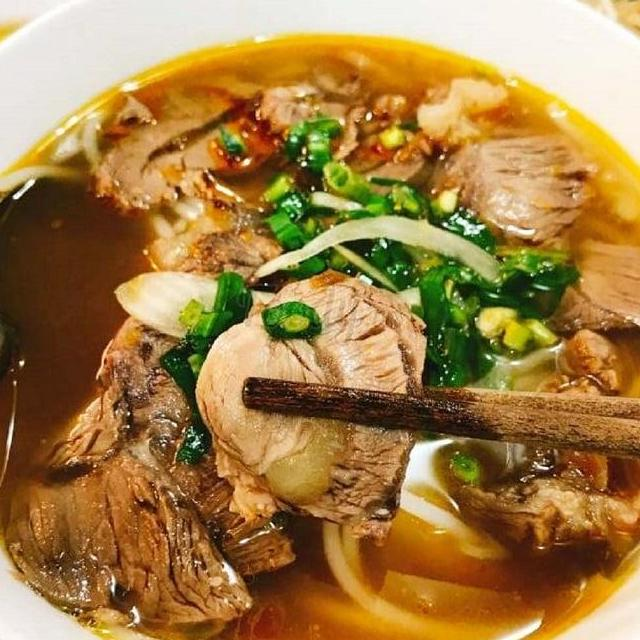bun: (292, 478, 536, 640), (619, 321, 640, 411)
bun bo: (0, 0, 640, 638)
thit bo: (184, 264, 433, 552), (0, 370, 257, 632), (88, 300, 302, 576), (443, 322, 640, 587), (85, 68, 298, 220), (246, 64, 440, 220), (422, 114, 600, 252), (514, 225, 640, 342)
